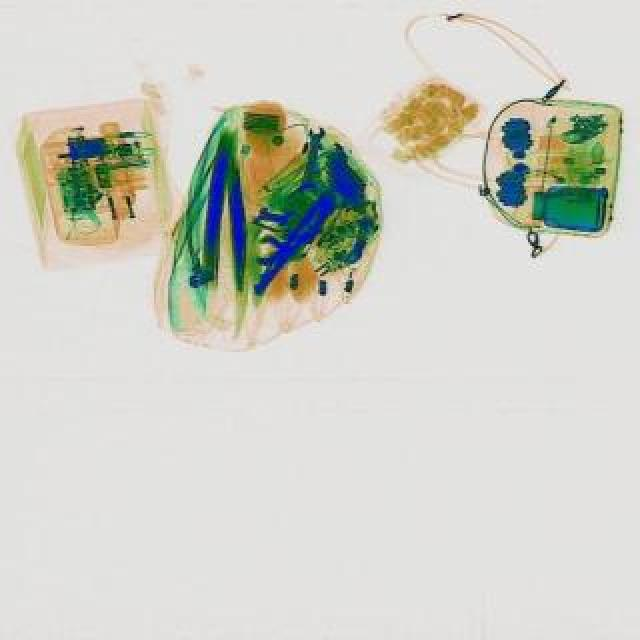scissors: (298, 128, 326, 196)
